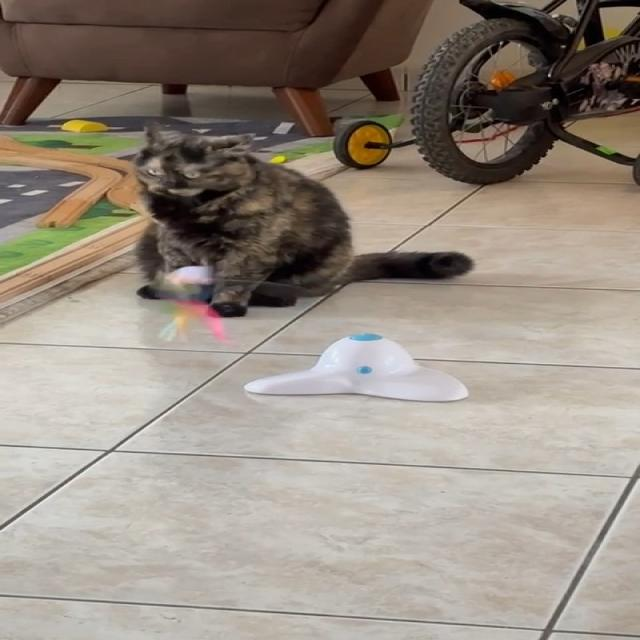authorized: (130, 120, 474, 318)
